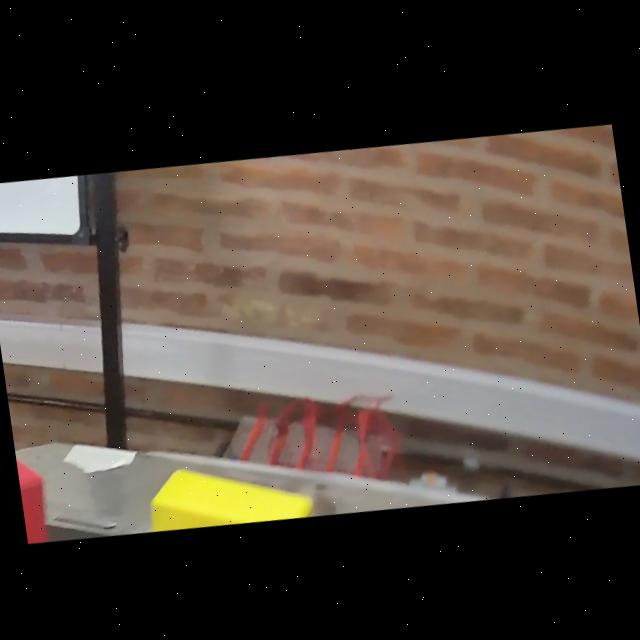redBox: (14, 441, 52, 544)
yellowBox: (132, 442, 317, 538)
